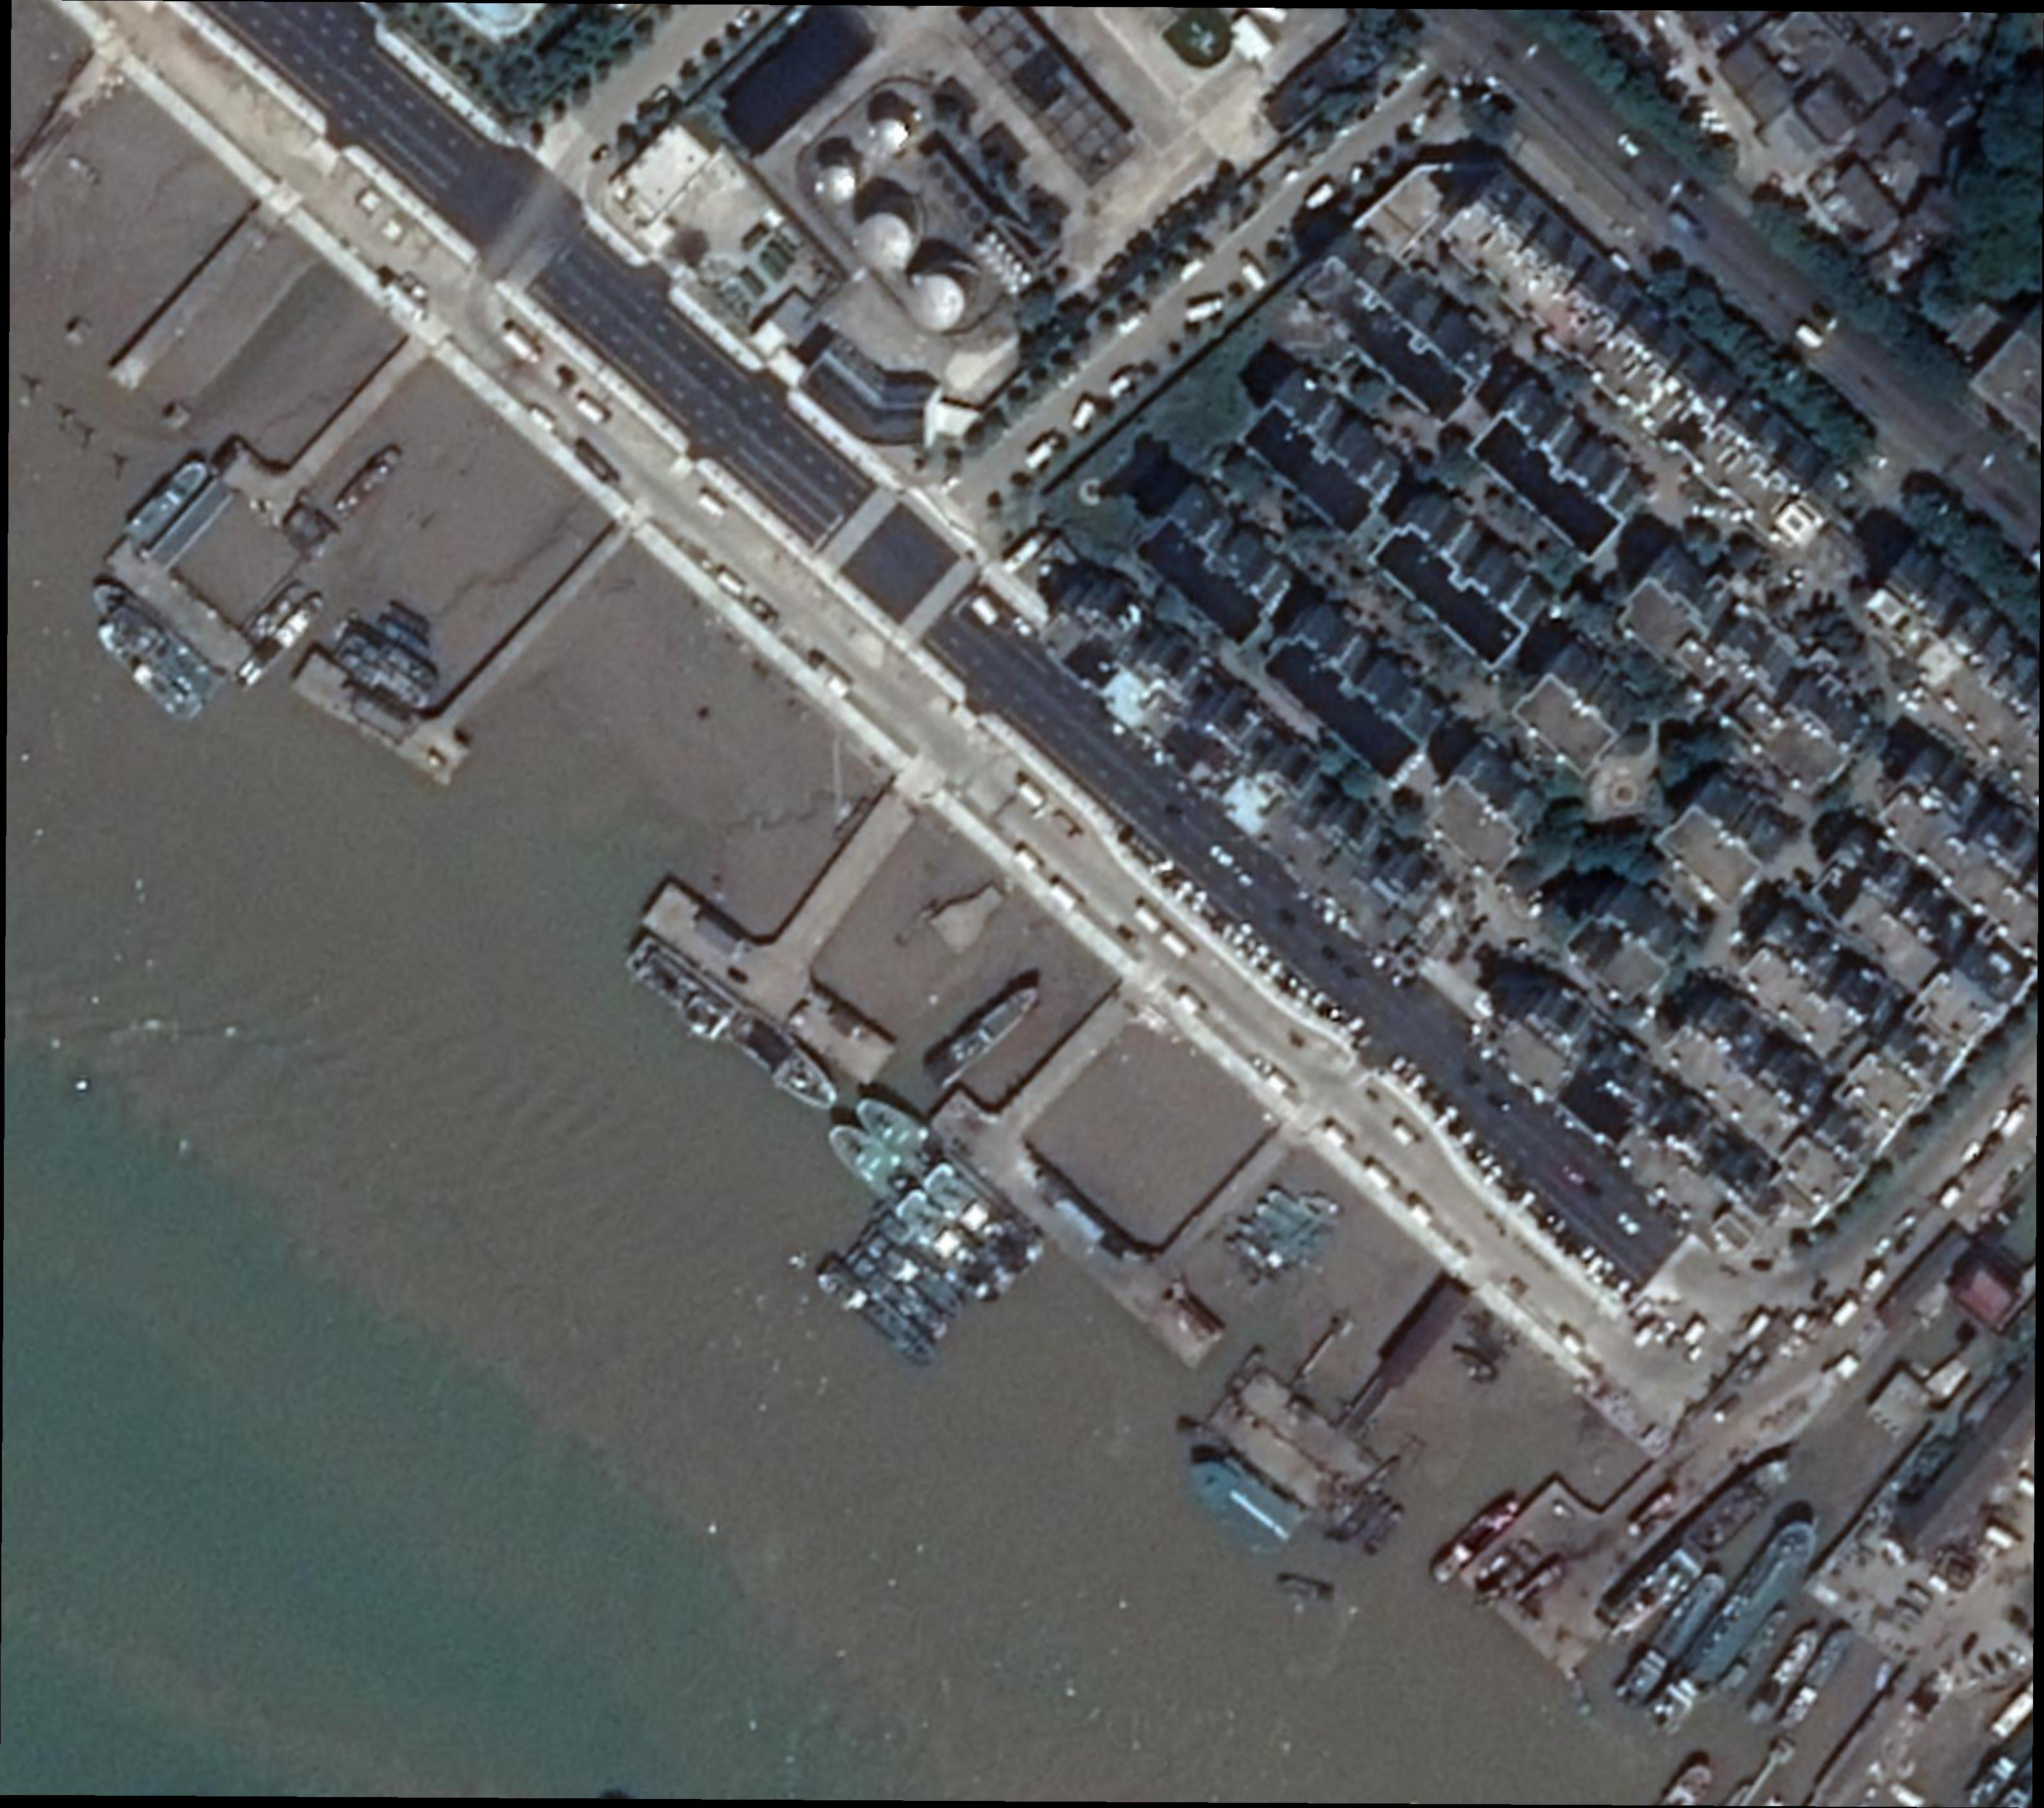harbor: (930, 955, 1351, 1368), (122, 298, 429, 633), (398, 524, 634, 771), (1456, 1426, 1697, 1667), (731, 792, 922, 1023), (1300, 1274, 1477, 1475)
ship: (623, 932, 848, 1120), (1644, 1510, 1828, 1733), (850, 1080, 1051, 1279), (820, 1115, 1016, 1309), (1604, 1448, 1798, 1637), (87, 572, 232, 707), (1611, 1565, 1732, 1709), (815, 1257, 939, 1370), (923, 979, 1044, 1091), (93, 620, 206, 731), (859, 1222, 971, 1319), (843, 1244, 953, 1340), (1426, 1490, 1524, 1588), (234, 588, 325, 691), (1773, 1621, 1857, 1731), (1740, 1620, 1822, 1728), (122, 454, 213, 548), (340, 616, 442, 693), (332, 640, 429, 712), (332, 442, 407, 524)
